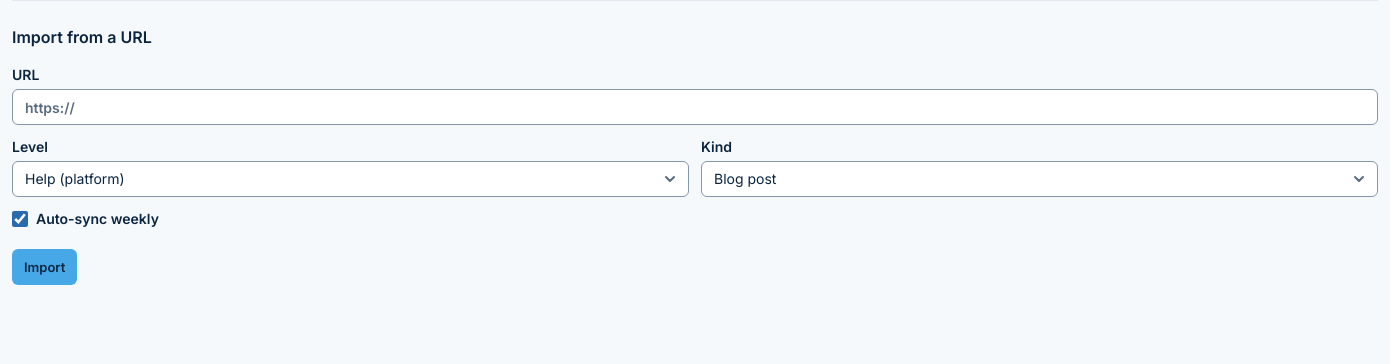
Test: ImportPanel › shows the decided copy for a failed import
In the field labelled "URL": (695, 107) [12, 89, 1378, 125], type "https://x.example/a"
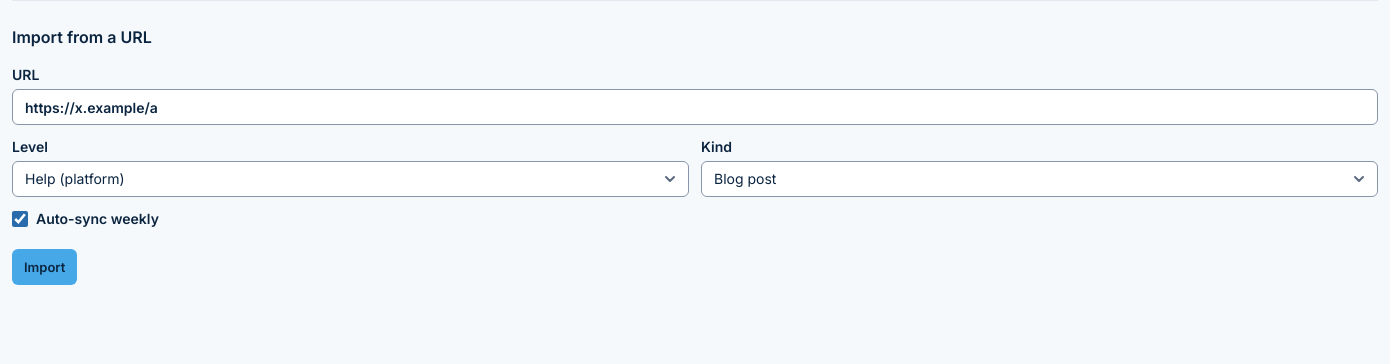
Submit the form "Import", box [12, 65, 1378, 285]
Wait 2000 ms
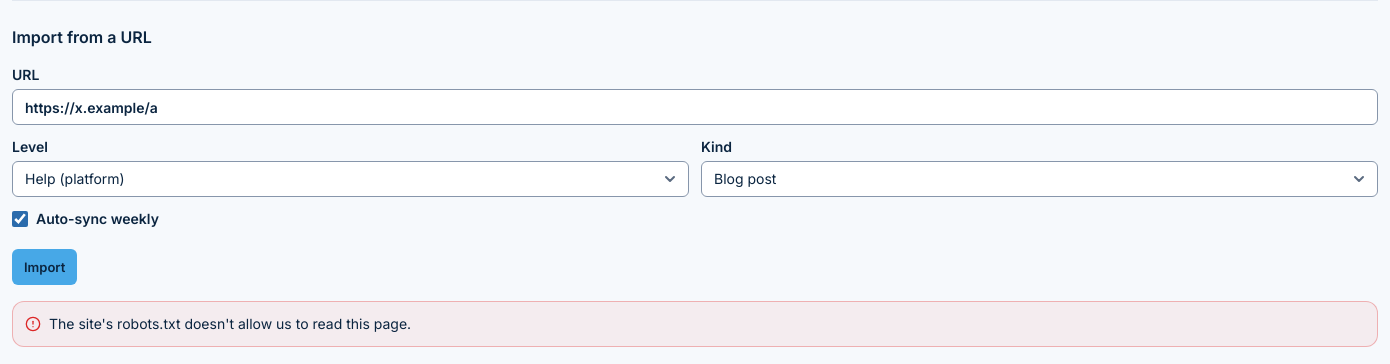
Result: the message reads "The site's robots.txt doesn't allow us to read this page." at [49, 315, 411, 332]
